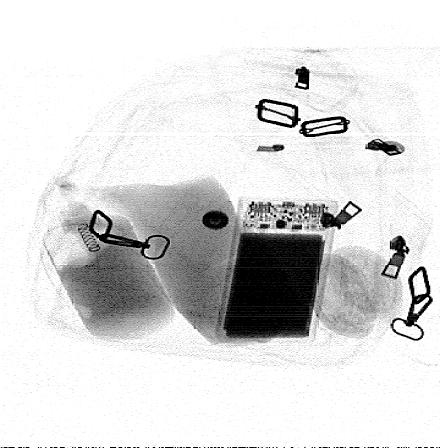Powerbank: (216, 197, 339, 343)
